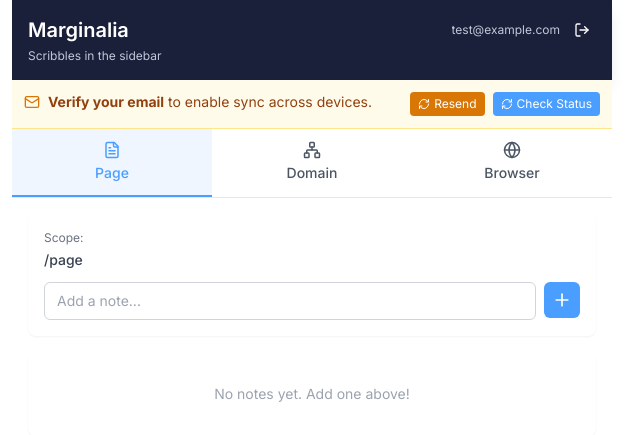
it: App › Email Verification Banner › should show success message after resending verification
Click the button "Resend": (447, 104) [410,92,484,116]
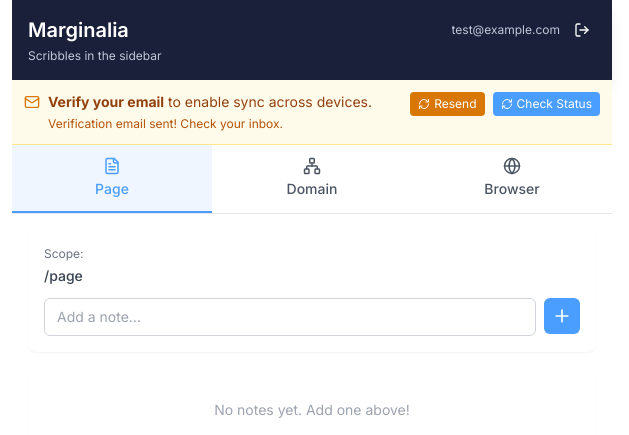
expect the text "Verification email sent! Check your inbox." is shown: met, box [48,116,283,131]
